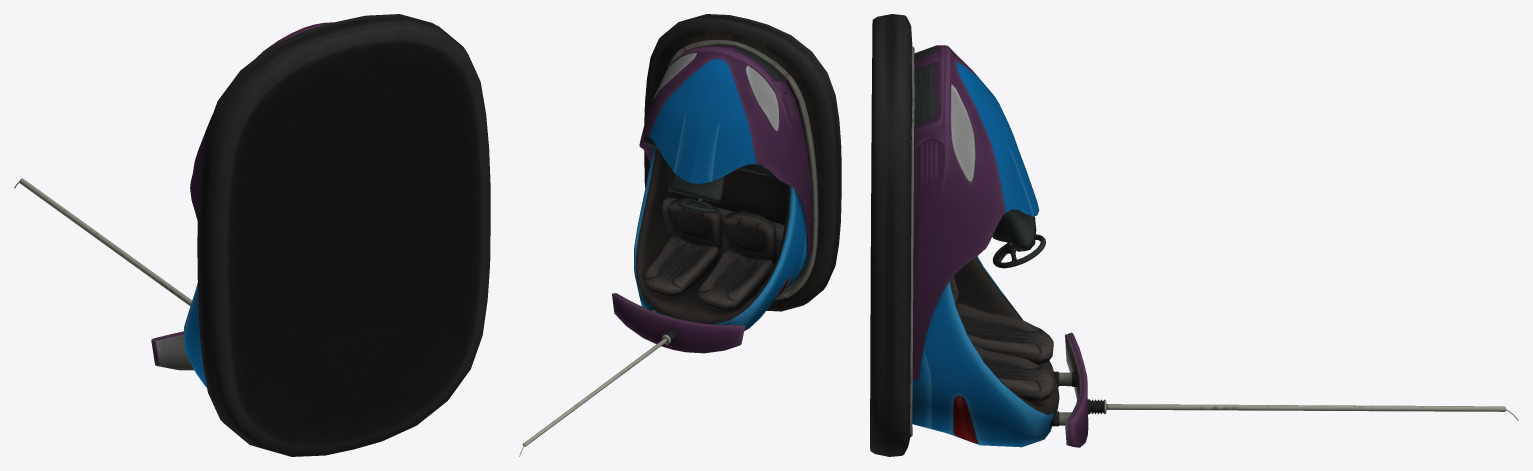
File: Bumper.fbx
3 renders of one model, left to right at view 1: azimuth 30°, elevation 25°; view 2: azimuth 150°, elevation 25°; view 3: azimuth 270°, elevation 25°, orthographic. The views are drawn at different scales.
Parts seen in each view (by area): view 1: bumpercar; view 2: bumpercar; view 3: bumpercar.
Part boxes in pixels (x1=…): bumpercar: x1=14, y1=14, x2=490, y2=456; bumpercar: x1=519, y1=14, x2=841, y2=456; bumpercar: x1=870, y1=14, x2=1518, y2=456.
Bounding box in the file's own units: 0.9826 × 1.39 × 2.05.
Materials: 1 (1 with a texture image).
